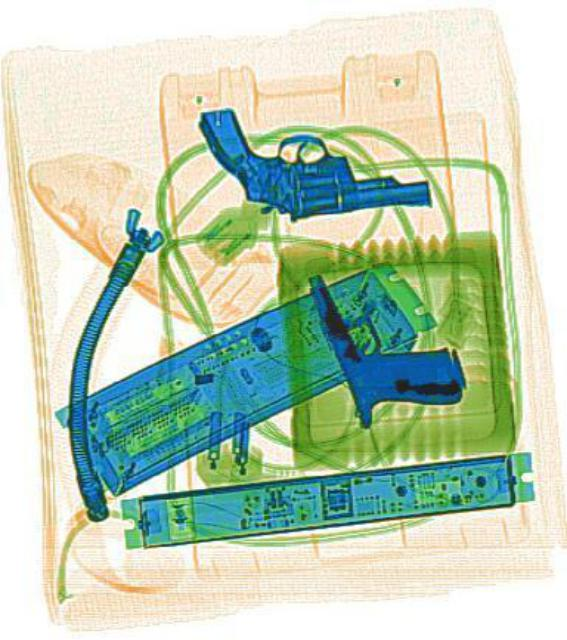Gun: (296, 233, 464, 442), (197, 88, 428, 225)
